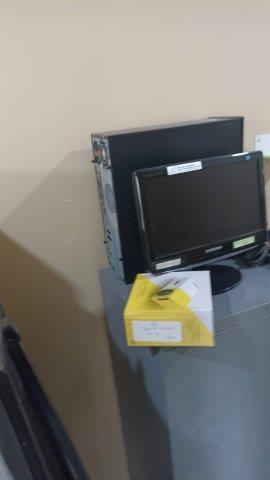kardus: (124, 271, 213, 348)
